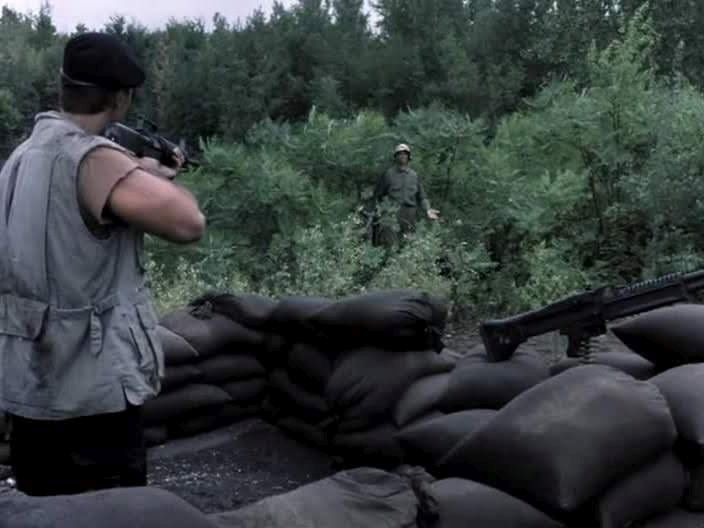gun: (468, 259, 703, 362), (107, 107, 215, 190)
